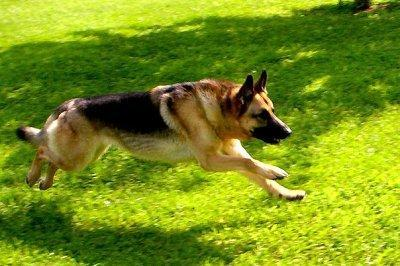German_shepherd: (14, 69, 307, 201)
